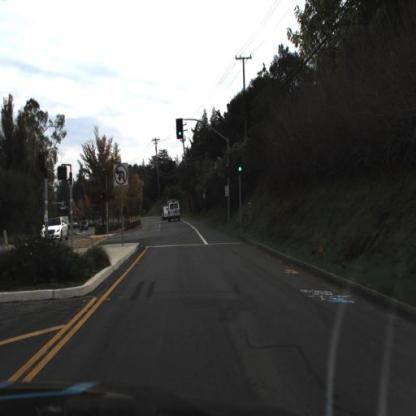car: (41, 217, 71, 245), (167, 198, 182, 223), (159, 201, 170, 222), (77, 218, 92, 232)
trafficLight-Green: (175, 121, 185, 142), (238, 160, 246, 182), (236, 157, 246, 174), (177, 126, 185, 145)
